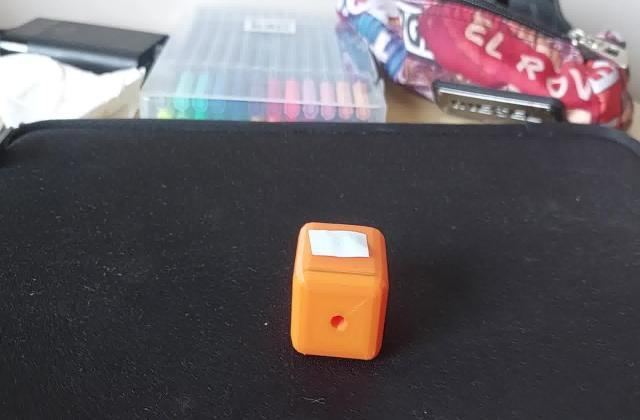cube: (285, 218, 391, 366)
white: (308, 229, 374, 262)
